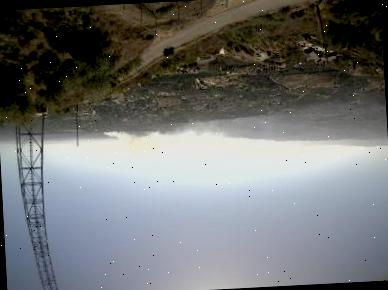smoke: (103, 120, 233, 155)
